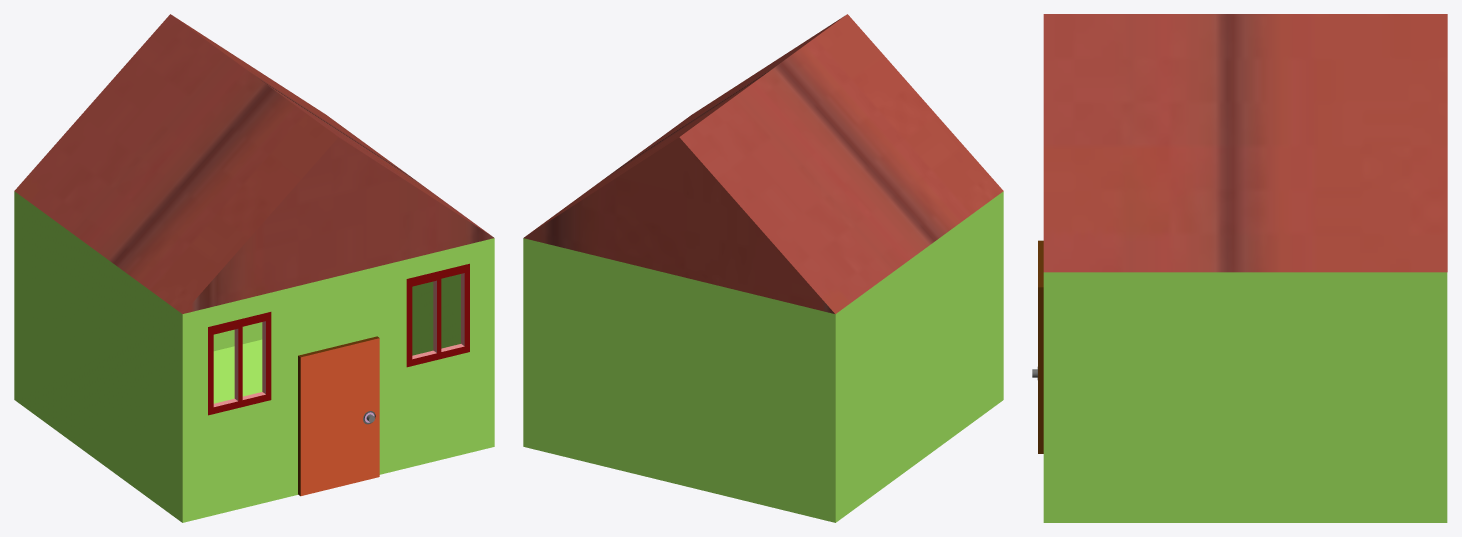
The model's file is buongbahay.fbx.
3 renders of one model, left to right at view 1: azimuth 30°, elevation 25°; view 2: azimuth 150°, elevation 25°; view 3: azimuth 270°, elevation 25°, orthographic. The views are drawn at different scales.
Visible parts, largest first — view 1: Model; view 2: Model; view 3: Model.
Boxes of the visible parts, x1=… form: Model: x1=14, y1=14, x2=494, y2=522; Model: x1=523, y1=14, x2=1003, y2=522; Model: x1=1032, y1=14, x2=1447, y2=522.
Size of the model in its own units: 13.48 by 14.35 by 12.95.
